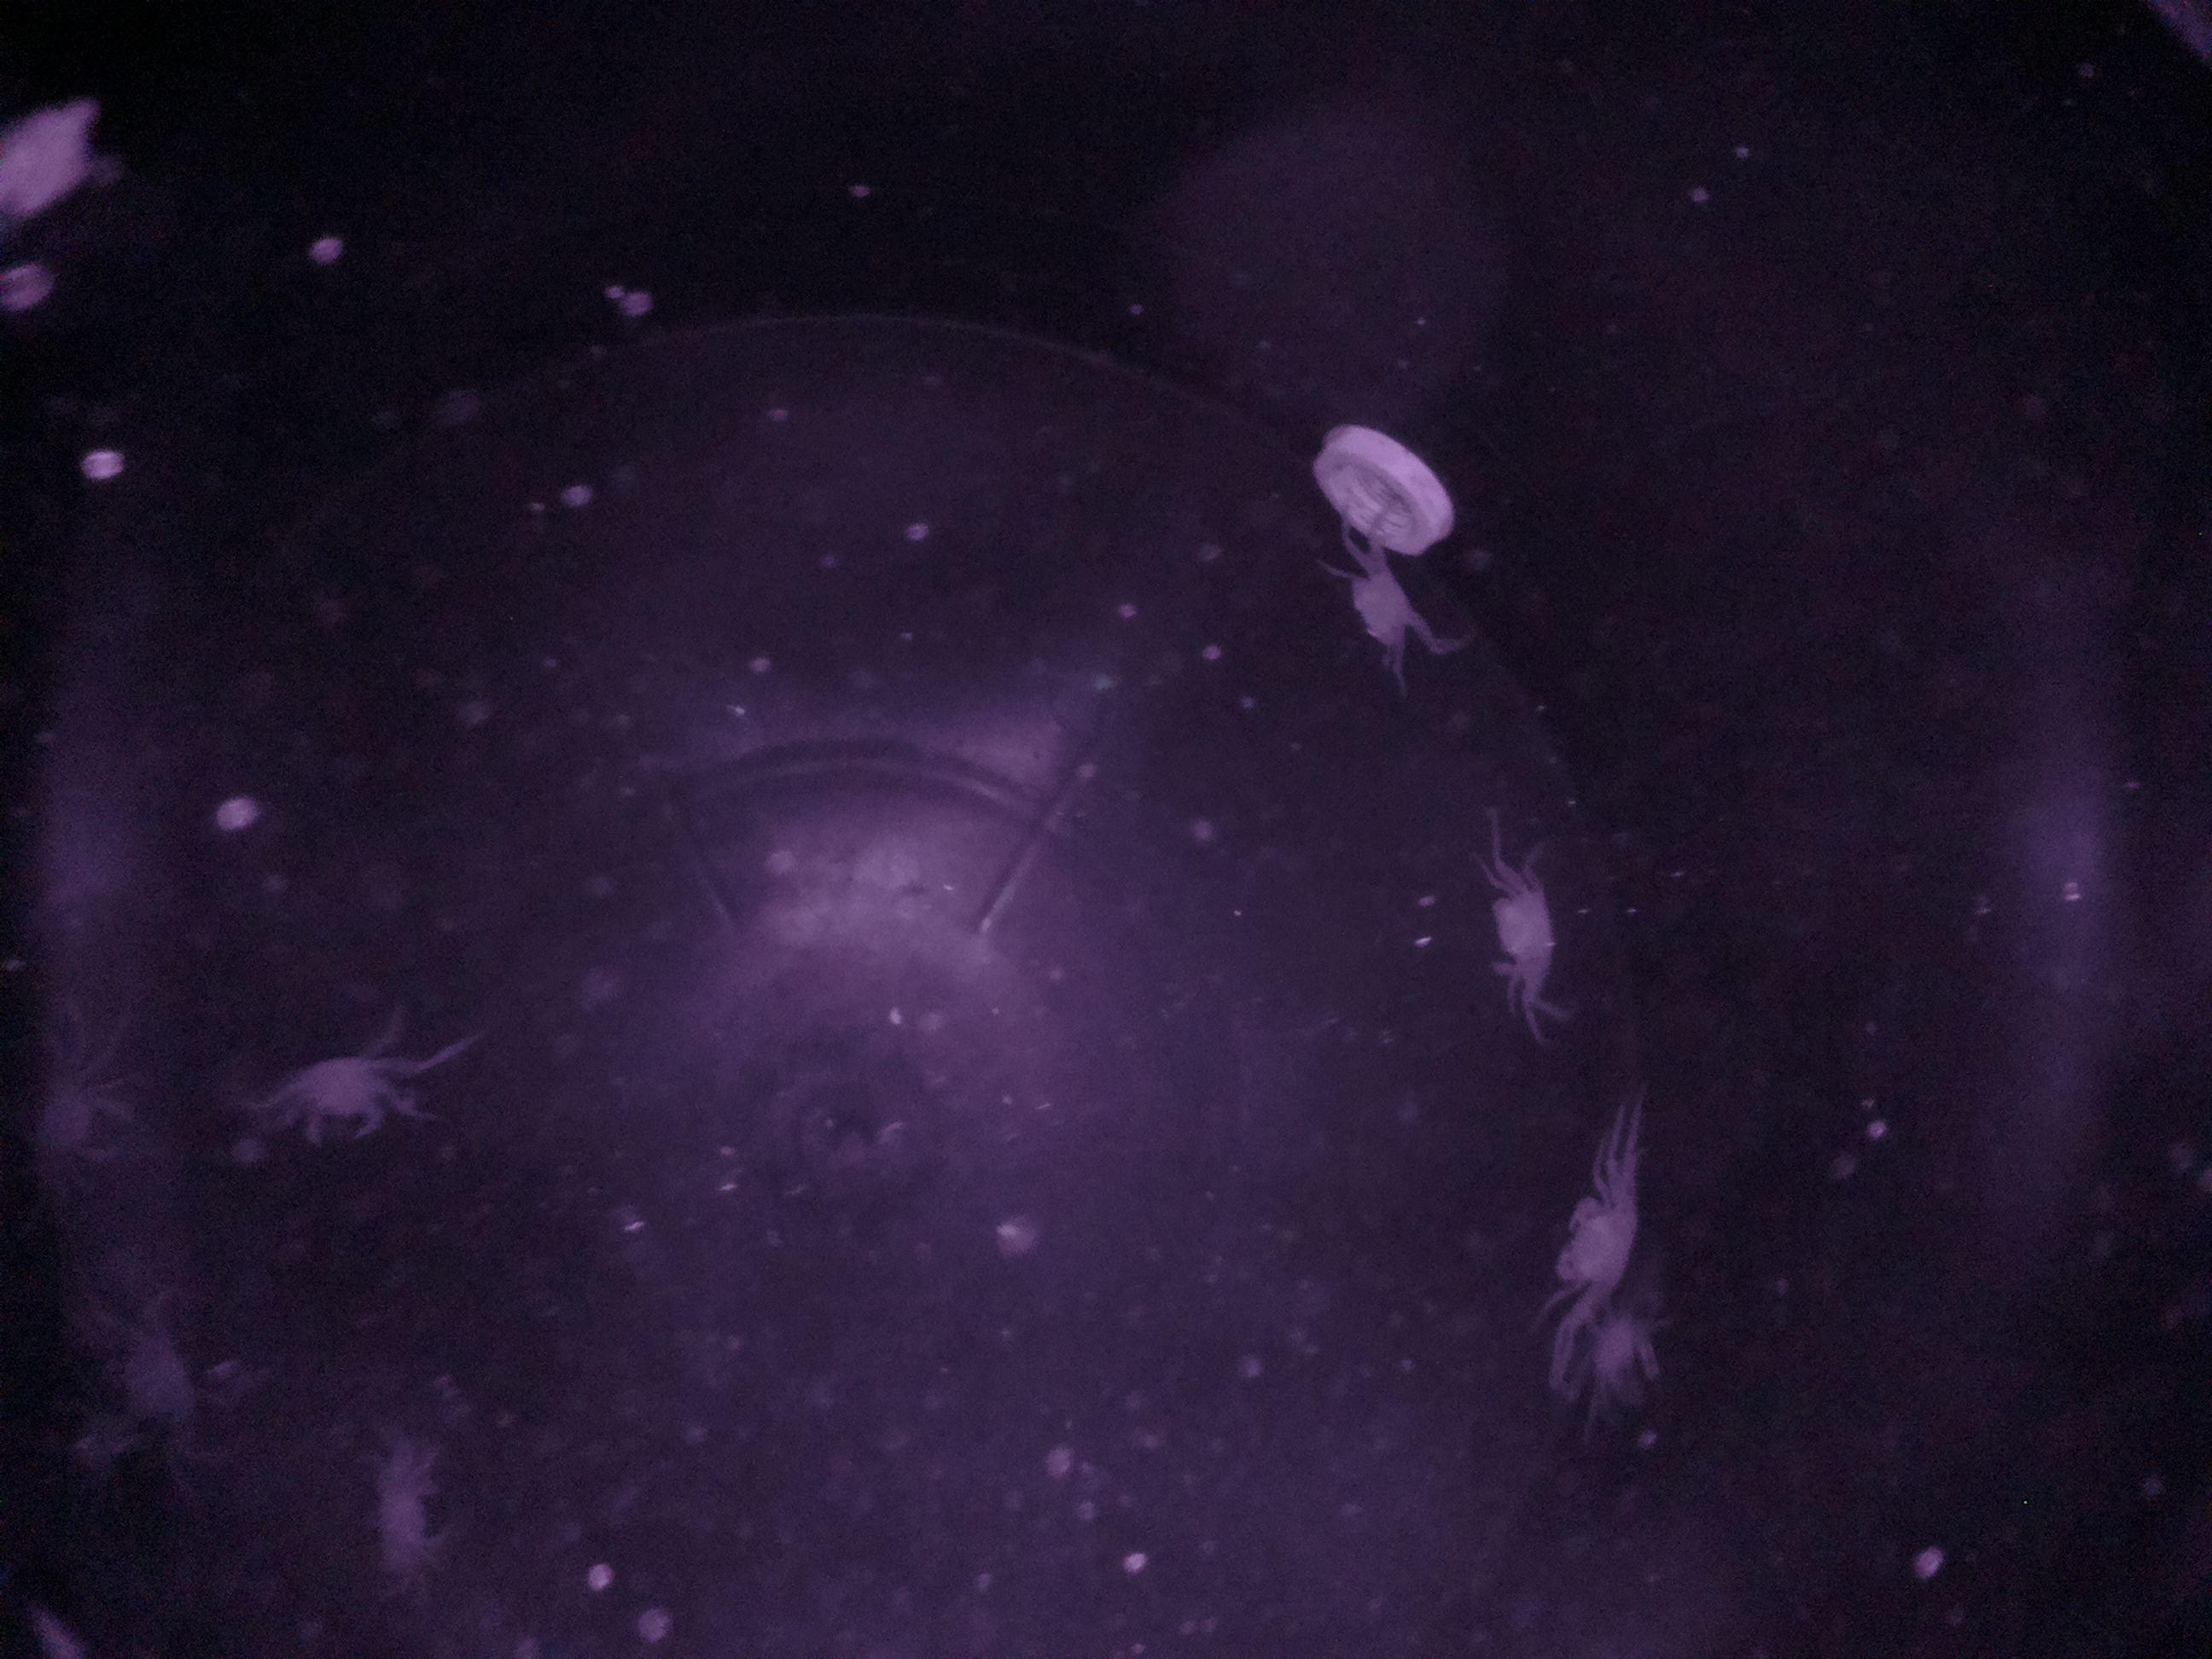Crab: (1527, 1166, 1656, 1328), (266, 1033, 413, 1171), (1467, 850, 1592, 999), (1329, 538, 1444, 671)
